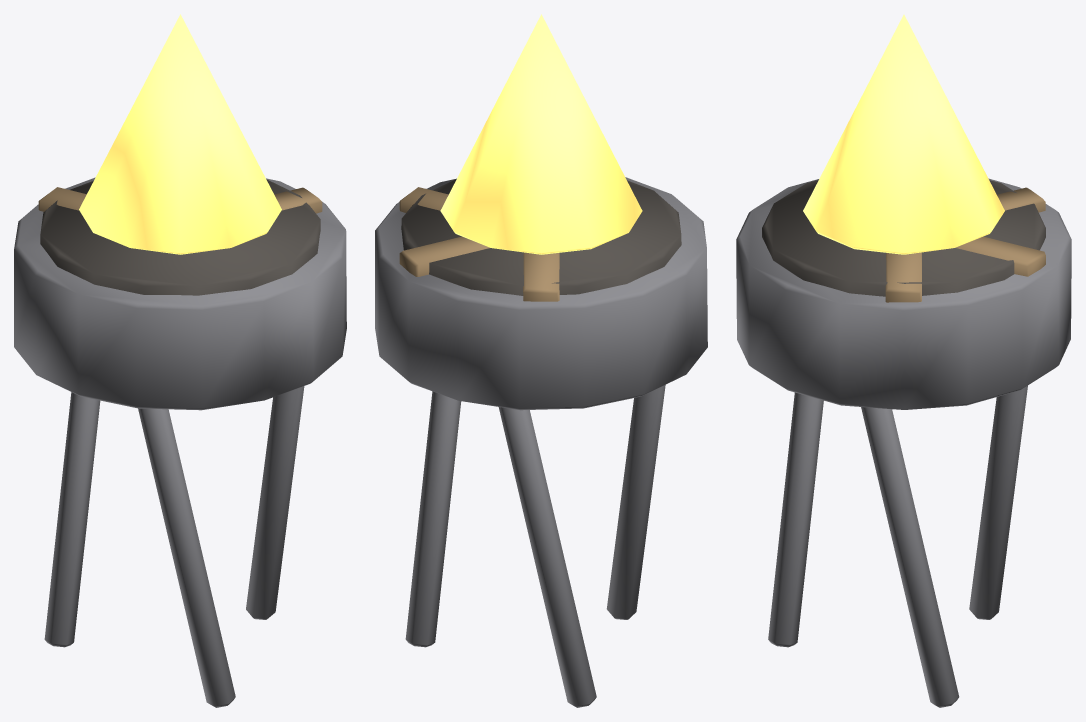
File: prop_brazier.glb
The picture shows the model from 3 angles, left to right: view 1: azimuth 30°, elevation 25°; view 2: azimuth 150°, elevation 25°; view 3: azimuth 270°, elevation 25°; orthographic projection.
Visible parts, largest first — view 1: prop_brazier; view 2: prop_brazier; view 3: prop_brazier.
Boxes of the visible parts, bbox=[...] form: prop_brazier: bbox=[14, 14, 346, 707]; prop_brazier: bbox=[375, 14, 707, 707]; prop_brazier: bbox=[736, 14, 1071, 707].
Size of the model in its own units: 0.52 by 1.1 by 0.52.
